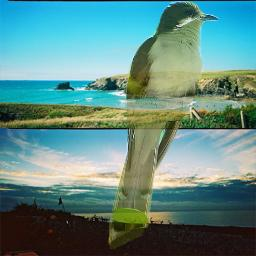Cuckoo: (108, 1, 219, 249)
